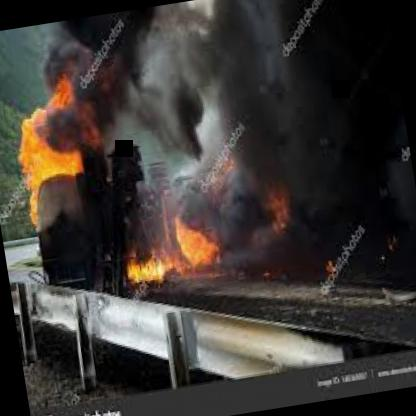fire: (0, 1, 226, 325)
